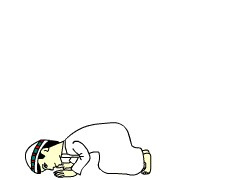sujud: (21, 121, 153, 178)
